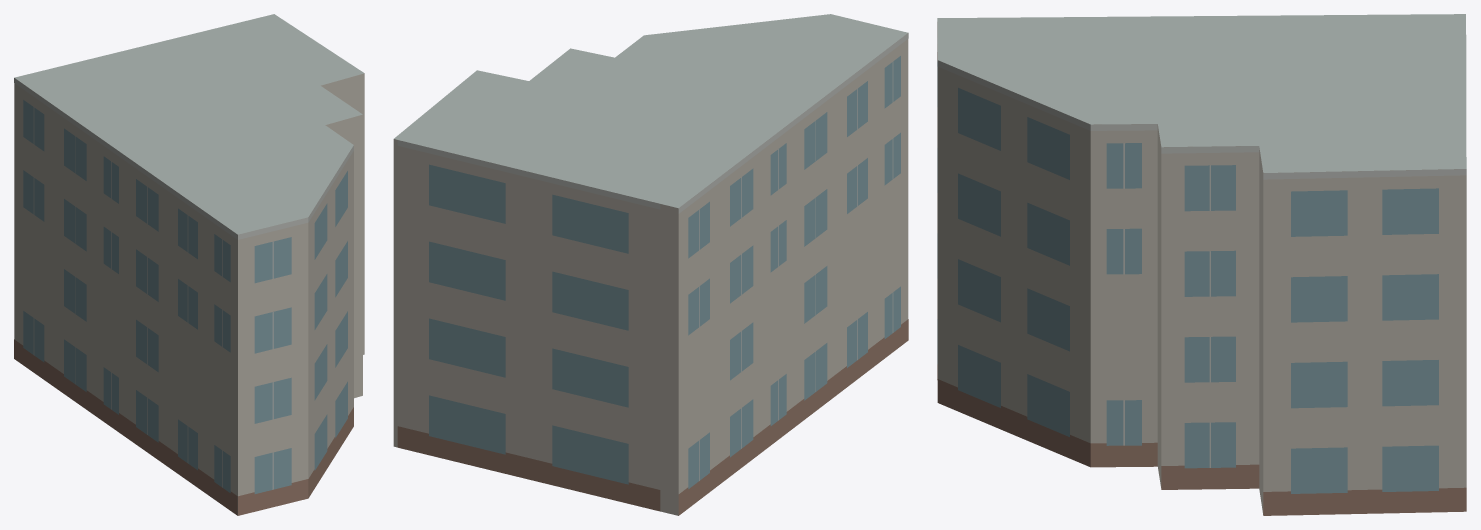
The model's file is survey-upis-33020353.glb.
The picture shows the model from 3 angles, left to right: view 1: azimuth 30°, elevation 25°; view 2: azimuth 150°, elevation 25°; view 3: azimuth 270°, elevation 25°; orthographic projection. The views are drawn at different scales.
Parts seen in each view (by area): view 1: survey-upis-33020353.tmp; view 2: survey-upis-33020353.tmp; view 3: survey-upis-33020353.tmp.
Boxes of the visible parts, x1,y1,x2,y2 form: survey-upis-33020353.tmp: (14, 14, 364, 515); survey-upis-33020353.tmp: (393, 14, 908, 515); survey-upis-33020353.tmp: (937, 14, 1466, 515).
Bounding box in the file's own units: 12.85 × 12.9 × 18.06.
